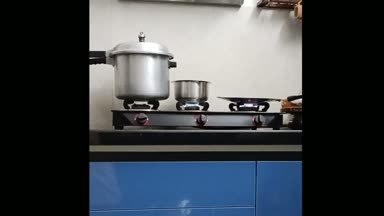flame_gas_off: (120, 99, 162, 128)
flame_gas_on: (232, 103, 273, 129), (177, 101, 214, 126)
